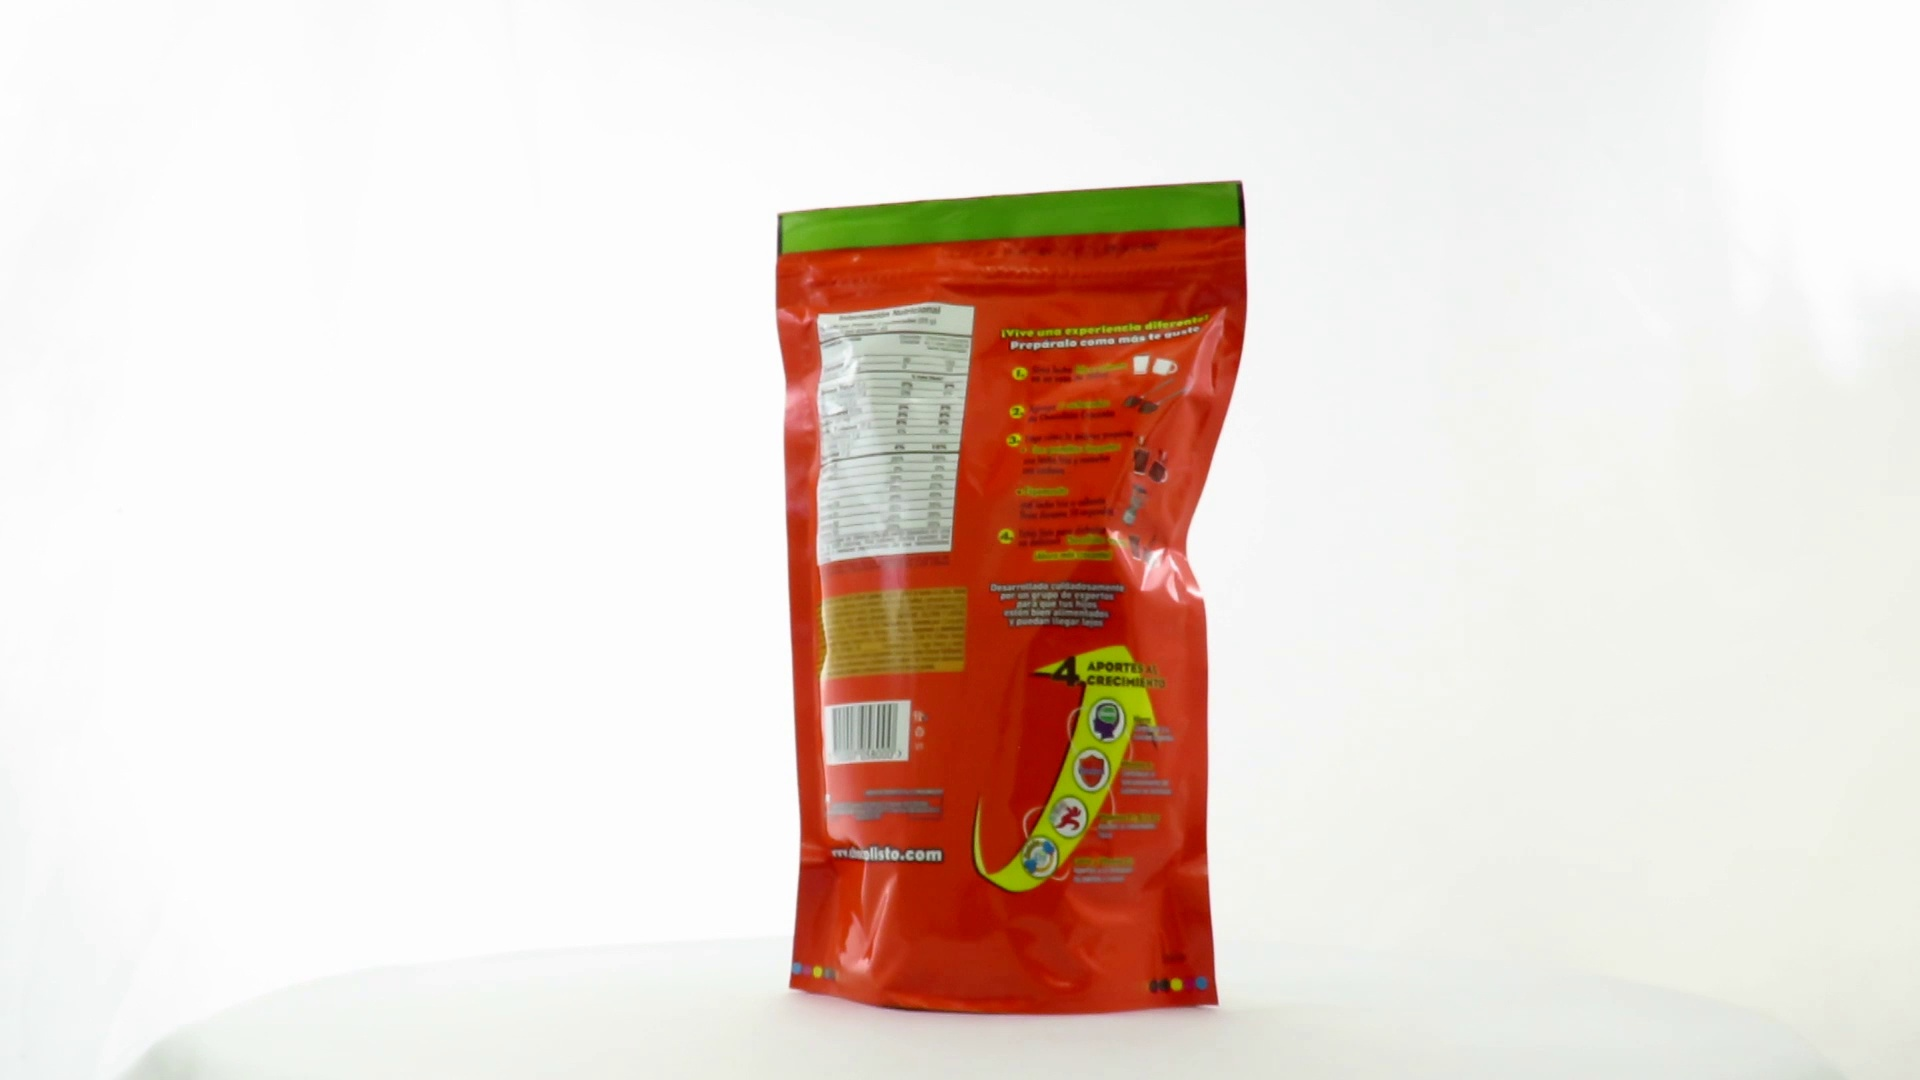COL0170102DYP50000: (770, 175, 1253, 1022)
